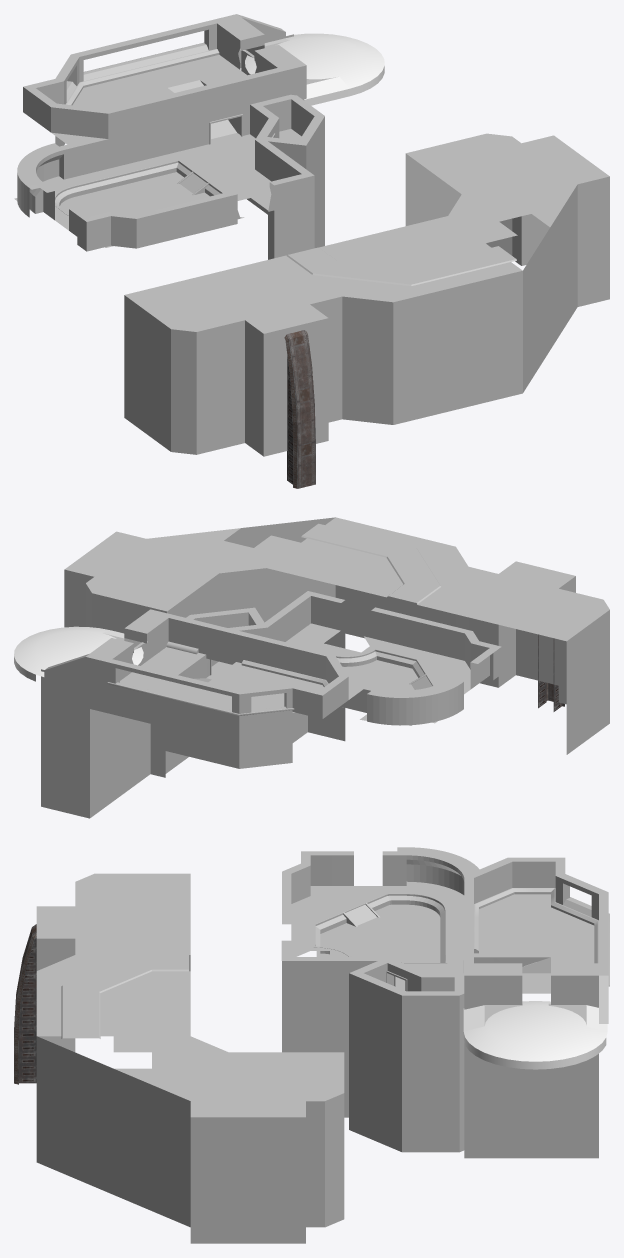
File: Layout_01_Split.FBX
3 renders of one model, top to bottom at view 1: azimuth 30°, elevation 25°; view 2: azimuth 150°, elevation 25°; view 3: azimuth 270°, elevation 25°, orthographic. The views are drawn at different scales.
Visible parts, largest first — view 1: Object_Layout-3, Object_Layout-2, Object_Layout-1; view 2: Object_Layout-3, Object_Layout-1, Object_Layout-2; view 3: Object_Layout-3, Object_Layout-2, Object_Layout-1.
Boxes of the visible parts, box(x1,y1,x2,y2) form: Object_Layout-3: box(124, 133, 609, 488); Object_Layout-2: box(14, 65, 324, 259); Object_Layout-1: box(23, 14, 384, 214); Object_Layout-3: box(64, 517, 609, 754); Object_Layout-1: box(14, 609, 363, 818); Object_Layout-2: box(150, 591, 501, 777); Object_Layout-3: box(14, 873, 344, 1243); Object_Layout-2: box(281, 847, 479, 1152); Object_Layout-1: box(463, 857, 609, 1158).
Bounding box in the file's own units: 3.05 × 1.24 × 3.15.
